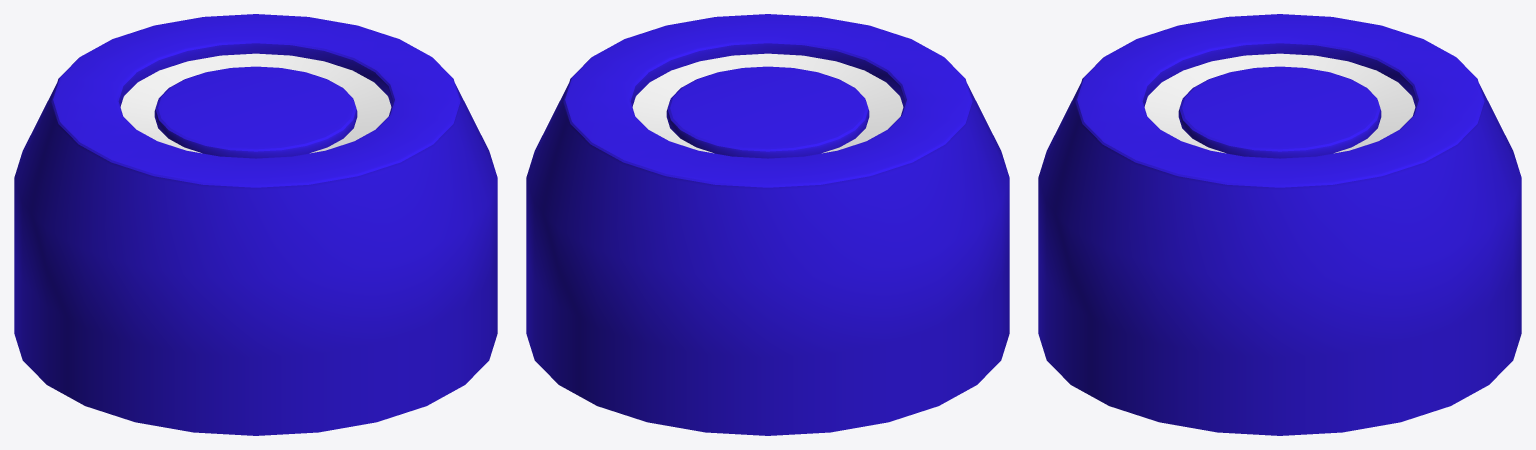
The model's file is Bumper_01.FBX.
3 views of the same model, side by side, from view 1: azimuth 30°, elevation 25°; view 2: azimuth 150°, elevation 25°; view 3: azimuth 270°, elevation 25° (orthographic).
Visible parts, largest first — view 1: Cylinder004; view 2: Cylinder004; view 3: Cylinder004.
Boxes of the visible parts, x1,y1,x2,y2 form: Cylinder004: (14,14,497,435); Cylinder004: (526,14,1009,435); Cylinder004: (1038,14,1521,435).
Size of the model in its own units: 20.68 by 11.08 by 20.68.
